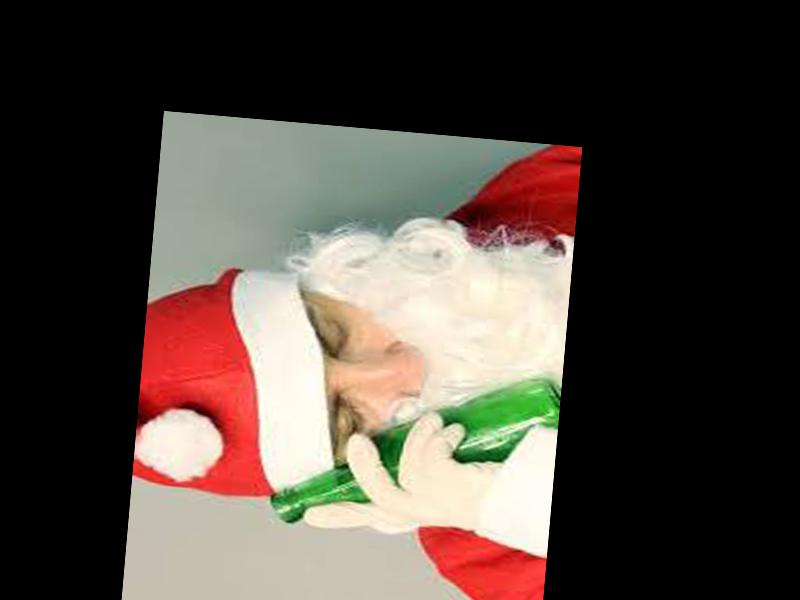Beer: (271, 359, 562, 547)
